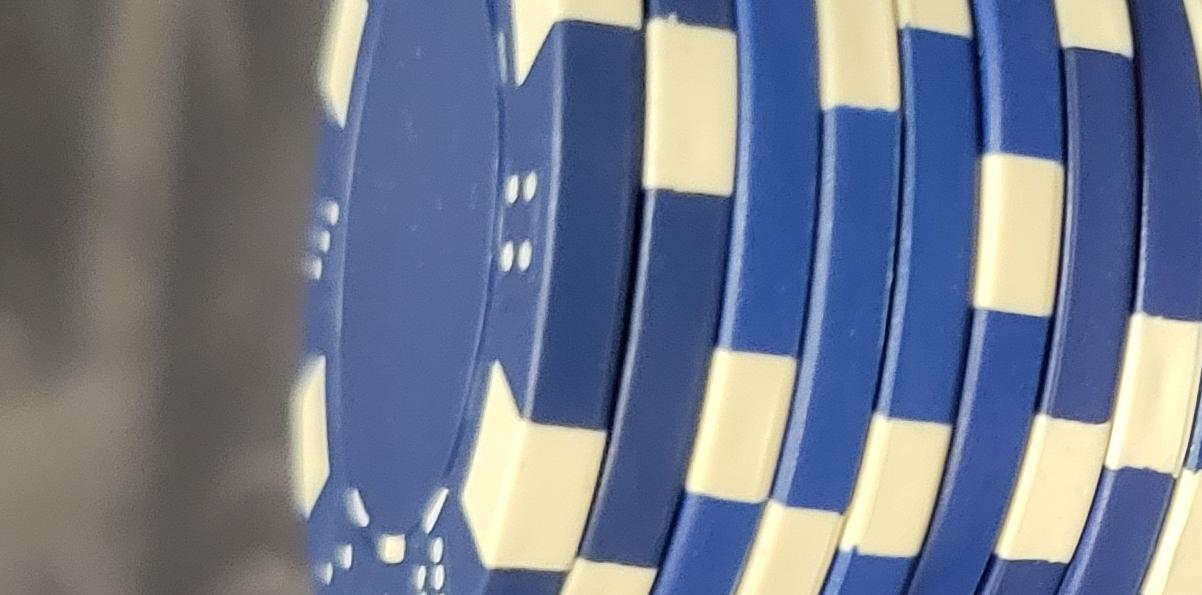Chip: (1, 276, 732, 595)
